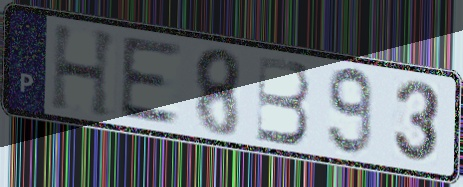3: (389, 79, 442, 166)
8: (192, 46, 244, 138)
9: (323, 64, 376, 160)
B: (254, 52, 312, 148)
E: (117, 35, 185, 128)
H: (48, 22, 121, 122)
